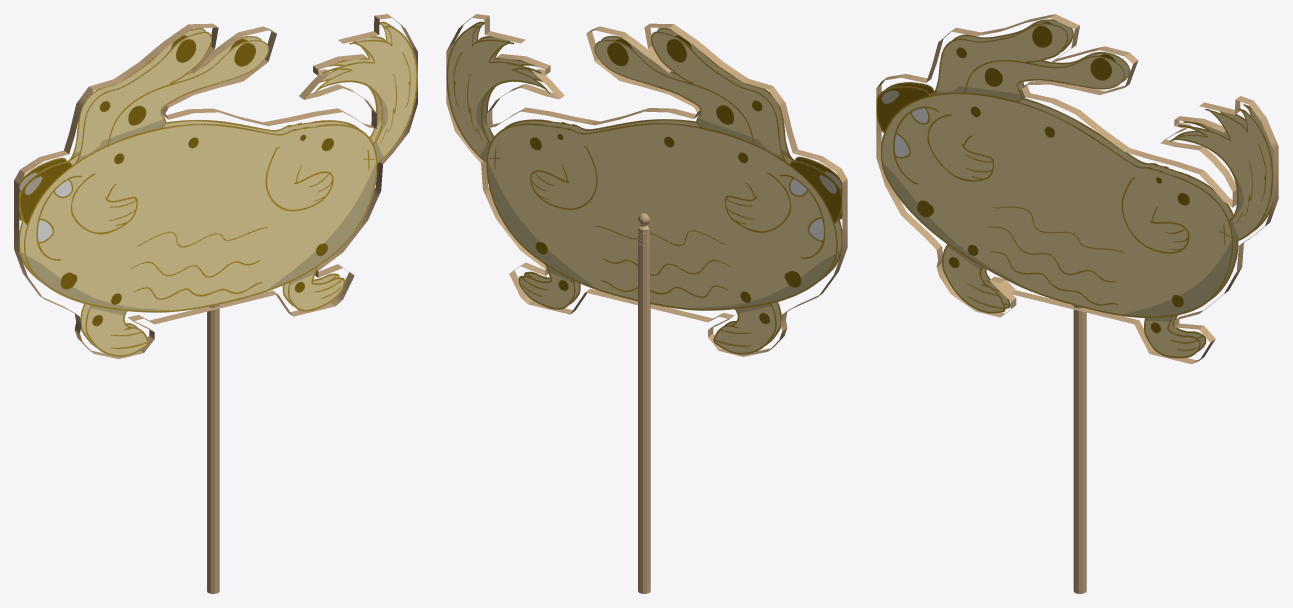
File: Escena2_Perrito.fbx
The picture shows the model from 3 angles, left to right: view 1: azimuth 30°, elevation 25°; view 2: azimuth 150°, elevation 25°; view 3: azimuth 330°, elevation 25°; orthographic projection.
Parts seen in each view (by area): view 1: SCN02; view 2: SCN02; view 3: SCN02.
Part boxes in pixels (bbox=[...]): SCN02: bbox=[14, 14, 417, 593]; SCN02: bbox=[446, 14, 847, 593]; SCN02: bbox=[876, 14, 1278, 593].
Bounding box in the file's own units: 0.1174 × 0.1613 × 0.00428.
